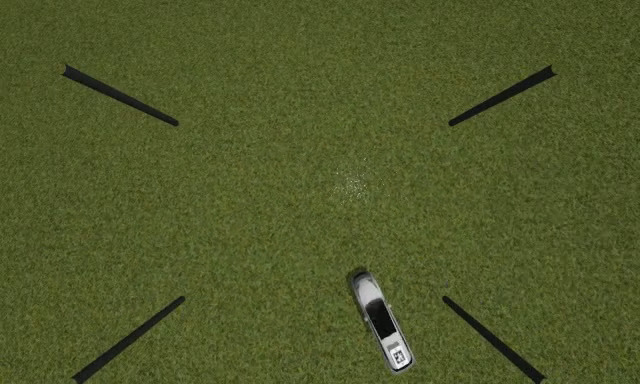Car: (351, 272, 417, 375)
Landing Pad: (390, 346, 409, 369)
